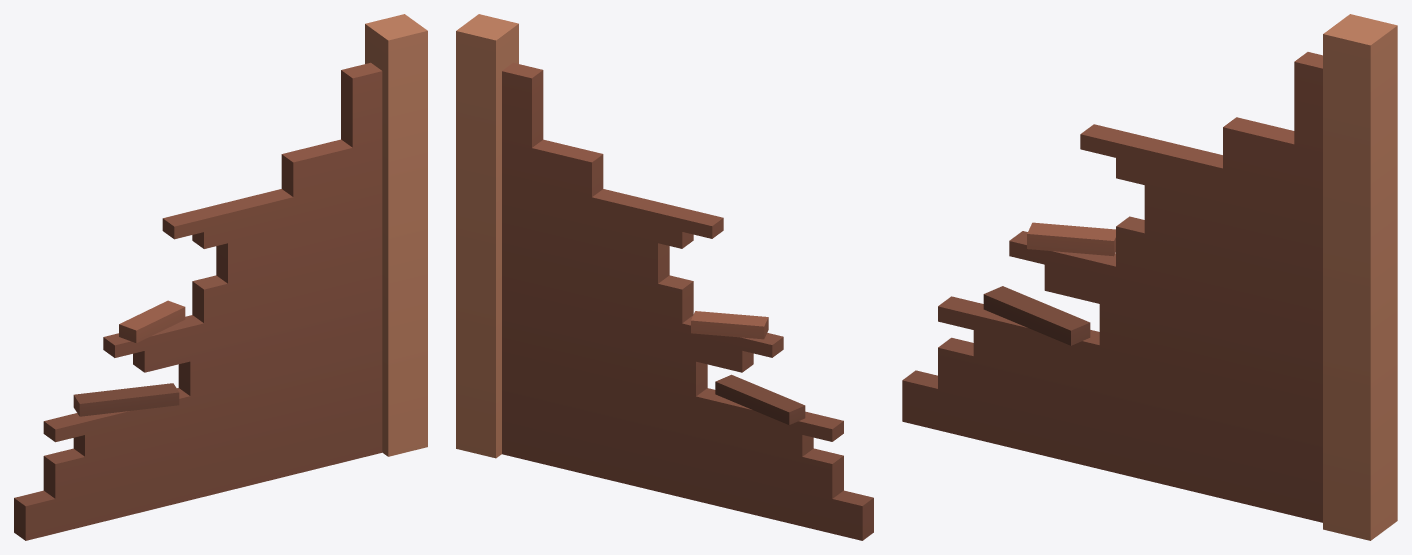
File: wall-wood-broken_lev1.glb
3 views of the same model, side by side, from view 1: azimuth 30°, elevation 25°; view 2: azimuth 150°, elevation 25°; view 3: azimuth 330°, elevation 25° (orthographic). The views are drawn at different scales.
Parts seen in each view (by area): view 1: wall-wood-broken_lev1; view 2: wall-wood-broken_lev1; view 3: wall-wood-broken_lev1.
Part boxes in pixels (x1,y1,x2,y2): wall-wood-broken_lev1: [14, 14, 427, 540]; wall-wood-broken_lev1: [456, 14, 873, 540]; wall-wood-broken_lev1: [902, 14, 1397, 540].
Size of the model in its own units: 4.17 by 4.17 by 0.472.
1 material, 1 textured.
